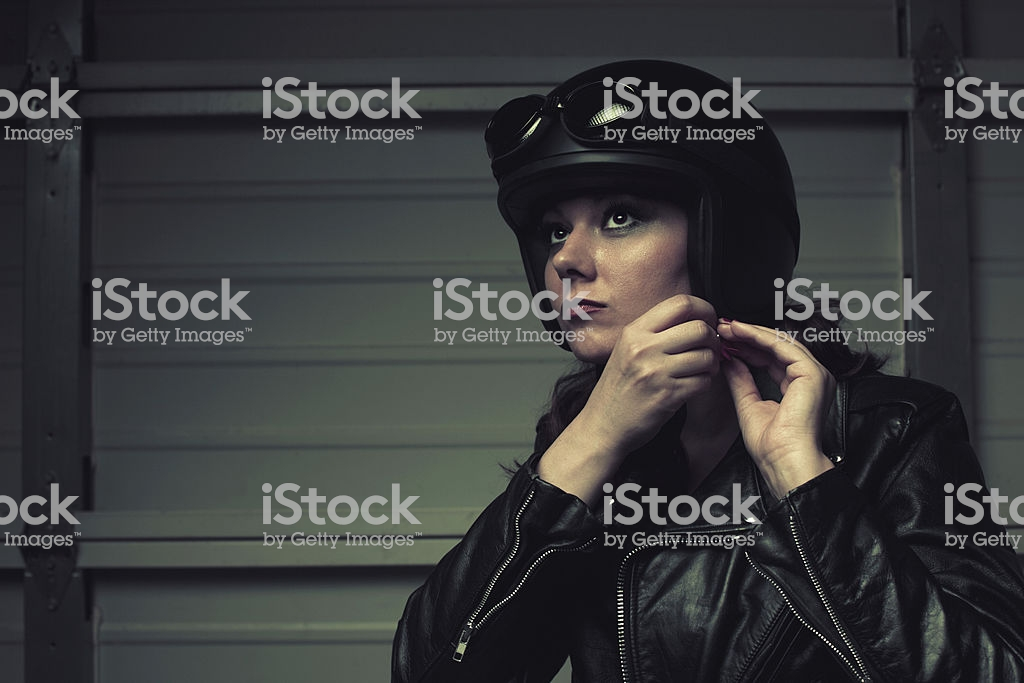helmet: (501, 78, 788, 325)
